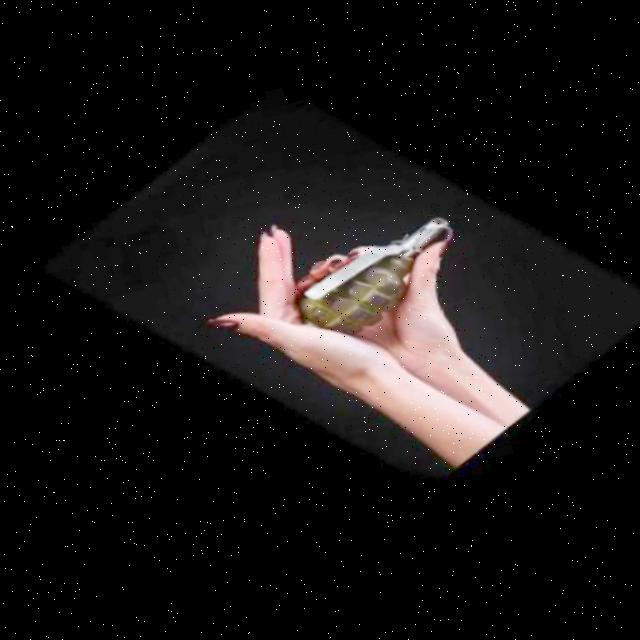grenade: (258, 188, 489, 386)
